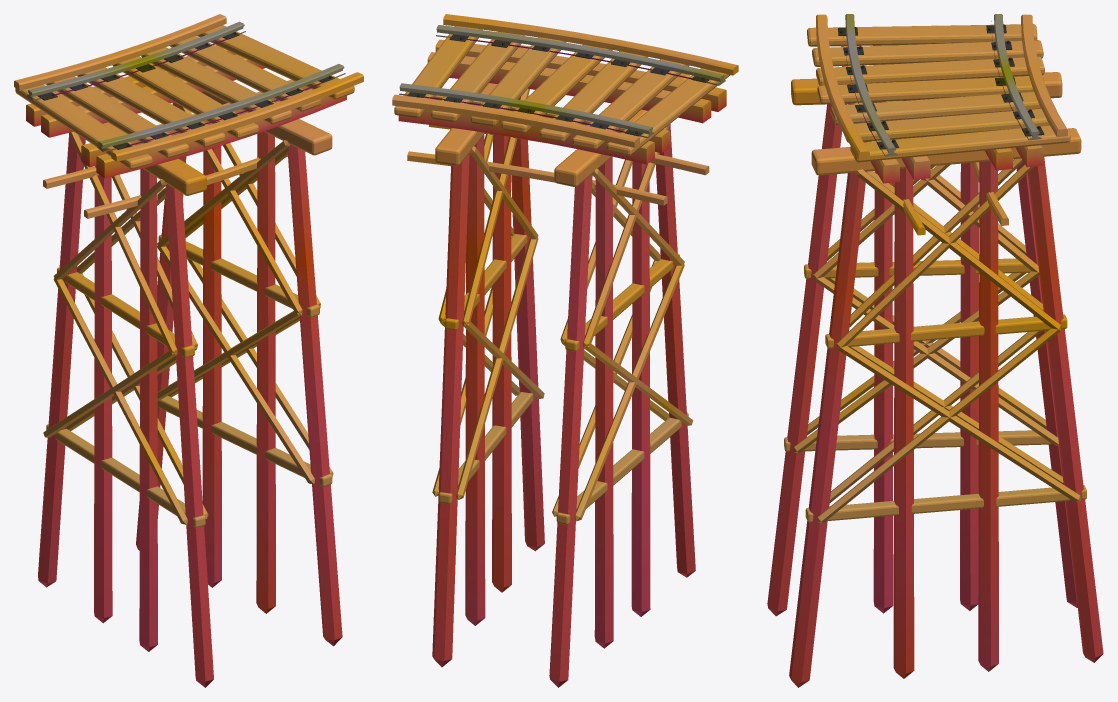
Rendered from Track_Bridge_Curve_R20_15_B.glb.
3 renders of one model, left to right at view 1: azimuth 30°, elevation 25°; view 2: azimuth 150°, elevation 25°; view 3: azimuth 270°, elevation 25°, orthographic. The views are drawn at different scales.
Visible parts, largest first — view 1: Track_Bridge_Curve_R20_15_B; view 2: Track_Bridge_Curve_R20_15_B; view 3: Track_Bridge_Curve_R20_15_B.
Boxes of the visible parts, box(x1,y1,x2,y2) form: Track_Bridge_Curve_R20_15_B: box(14, 14, 363, 687); Track_Bridge_Curve_R20_15_B: box(392, 14, 738, 687); Track_Bridge_Curve_R20_15_B: box(767, 14, 1103, 687).
Size of the model in its own units: 5.66 by 10.85 by 5.83.
